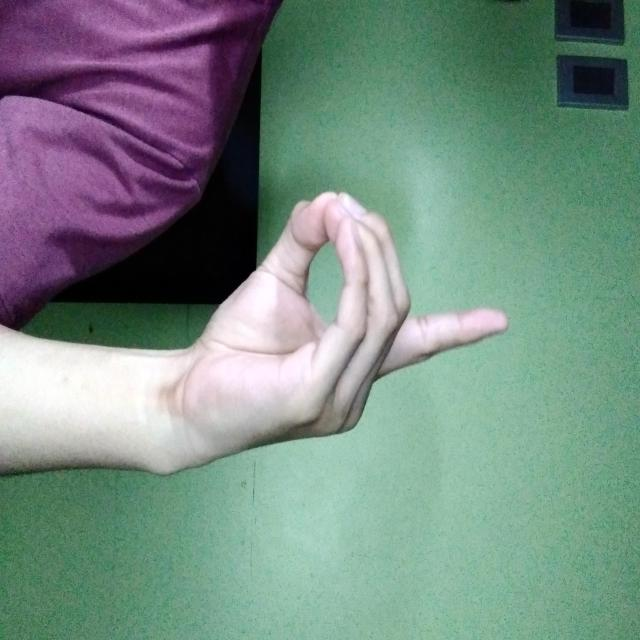D: (191, 129, 459, 452)
